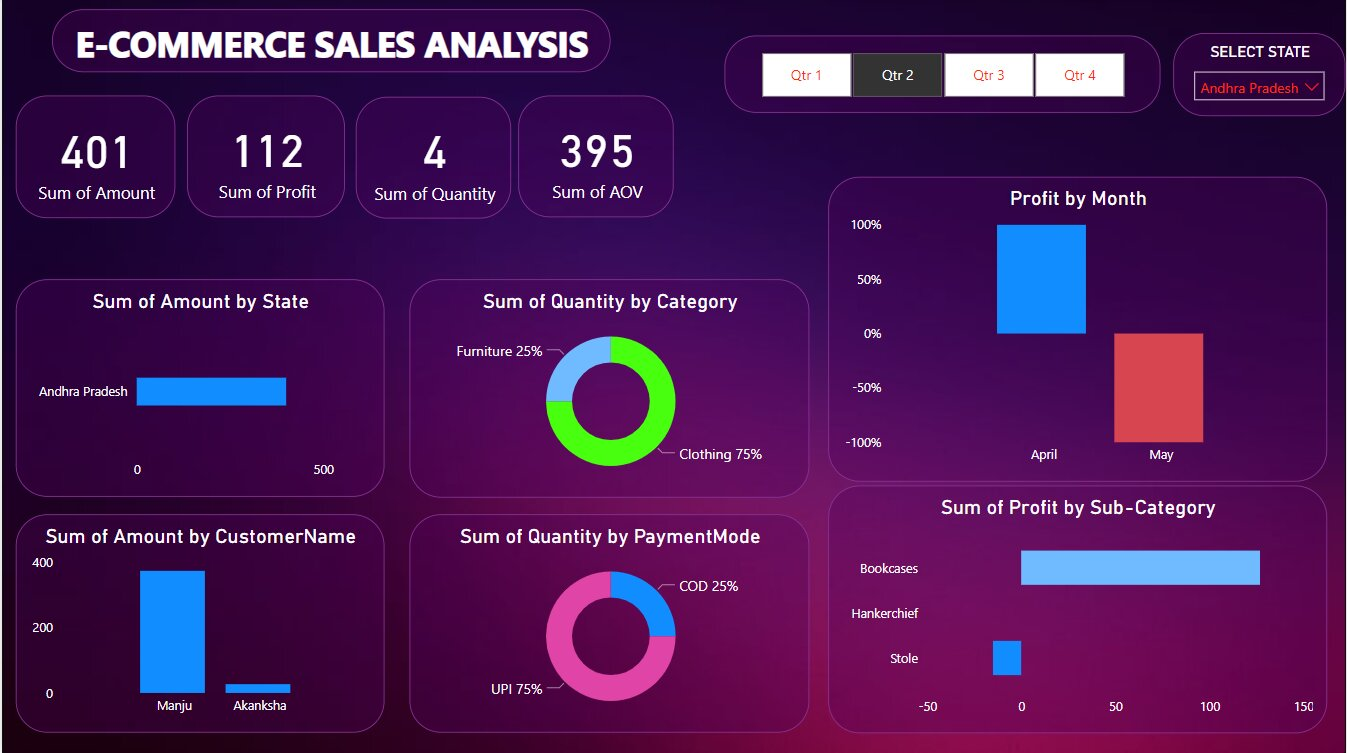

This screenshot's page, from the dashboard's own definition file:
{"tool":"powerbi","page":{"name":"Page 1","canvas":[1280,720],"ordinal":0},"visuals":[{"type":"textbox","title":"E-COMMERCE SALES ANALYSIS","box":[47,10.9,531.9,60.3],"z":0},{"type":"hundredPercentStackedColumnChart","title":"Profit by Month","fields":{"Category":["Orders.Order Date.Variation.Date Hierarchy.Month"],"Y":["Sum(Details.Profit)"]},"box":[786.3,170.1,475.2,290.7],"z":1000},{"type":"barChart","fields":{"Category":["Details.Sub-Category"],"Y":["Sum(Details.Profit)"]},"box":[786.3,464.3,475.2,236.4],"z":2000},{"type":"donutChart","fields":{"Category":["Details.Category"],"Y":["Sum(Details.Quantity)"]},"box":[388,267.4,381.2,208.4],"z":3000},{"type":"donutChart","fields":{"Y":["Sum(Details.Quantity)"],"Series":["Details.PaymentMode"]},"box":[388,492.2,381.2,208.4],"z":4000},{"type":"card","fields":{"Values":["Sum(Details.Amount)"]},"box":[13.3,92.9,152,117],"z":5000},{"type":"card","fields":{"Values":["Sum(Details.Profit)"]},"box":[176.1,92.9,150.8,115.8],"z":6000},{"type":"card","fields":{"Values":["Sum(Details.Quantity)"]},"box":[336.5,94.1,148.3,115.8],"z":7000},{"type":"barChart","fields":{"Category":["Orders.State"],"Y":["Sum(Details.Amount)"]},"box":[13.3,267.7,351,207.4],"z":8000},{"type":"columnChart","fields":{"Y":["Sum(Details.Amount)"],"Category":["Orders.CustomerName"]},"box":[13,492,351,208],"z":9000},{"type":"card","fields":{"Values":["Sum(Details.Column)"]},"box":[492.1,92.9,148.3,115.8],"z":10000},{"type":"slicer","fields":{"Values":["Orders.aov.Variation.Date Hierarchy.Quarter"]},"box":[688.6,36.2,414.9,73.6],"z":11000},{"type":"slicer","title":"SELECT STATE","fields":{"Values":["Orders.State"]},"box":[1115.6,33.8,164,79.6],"z":12000}]}

Visuals, with their boxes in screenshot pixels (x1, y1, x2, y2), scaled from the page's 1280x720 canvas onto the 1347x753 screenshot:
"E-COMMERCE SALES ANALYSIS" textbox: 49/11/609/74
"Profit by Month" hundredPercentStackedColumnChart: 827/178/1328/482
barChart - Details.Sub-Category x Sum(Details.Profit): 827/486/1328/733
donutChart - Details.Category x Sum(Details.Quantity): 408/280/809/498
donutChart - Sum(Details.Quantity) x Details.PaymentMode: 408/515/809/733
card - Sum(Details.Amount): 14/97/174/220
card - Sum(Details.Profit): 185/97/344/218
card - Sum(Details.Quantity): 354/98/510/220
barChart - Orders.State x Sum(Details.Amount): 14/280/383/497
columnChart - Sum(Details.Amount) x Orders.CustomerName: 14/515/383/732
card - Sum(Details.Column): 518/97/674/218
slicer - Orders.aov.Variation.Date Hierarchy.Quarter: 725/38/1161/115
"SELECT STATE" slicer: 1174/35/1346/119
